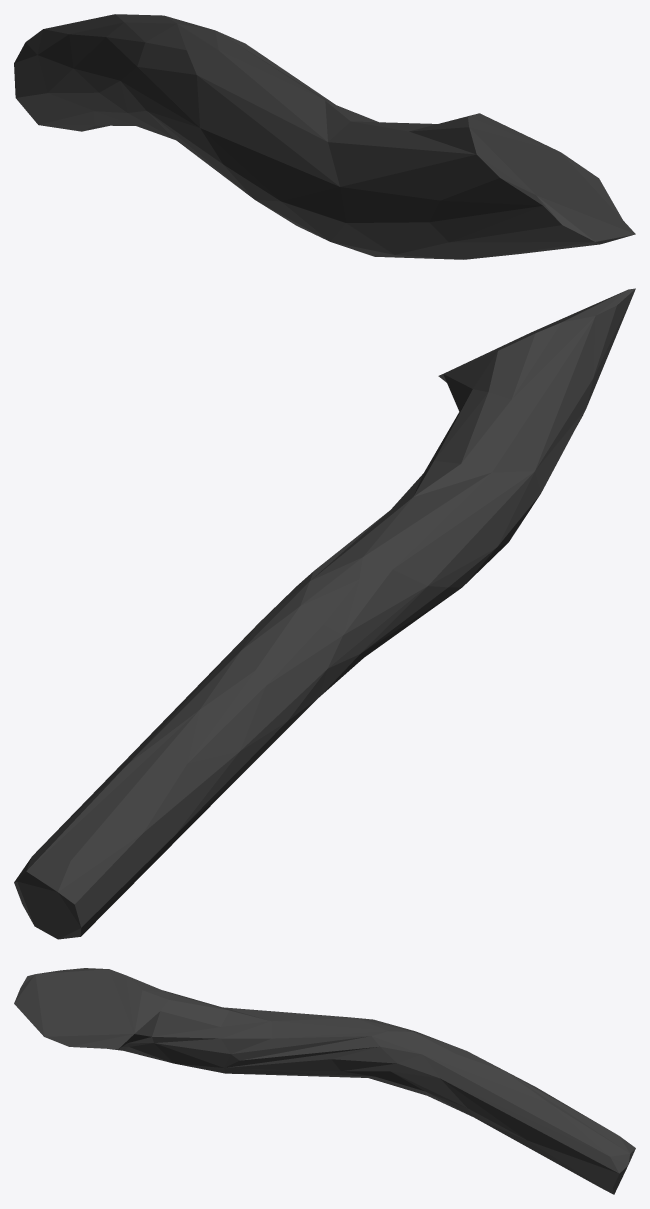
The model's file is Gonadal_vv_L.glb.
The picture shows the model from 3 angles, top to bottom: view 1: azimuth 30°, elevation 25°; view 2: azimuth 150°, elevation 25°; view 3: azimuth 270°, elevation 25°; orthographic projection. The views are drawn at different scales.
Parts seen in each view (by area): view 1: Gonadal_vv_L; view 2: Gonadal_vv_L; view 3: Gonadal_vv_L.
Part boxes in pixels (left/top/right/bottom): Gonadal_vv_L: left=14, top=14, right=635, bottom=259; Gonadal_vv_L: left=14, top=288, right=635, bottom=939; Gonadal_vv_L: left=14, top=968, right=635, bottom=1194.
Bounding box in the file's own units: 0.0345 × 0.0638 × 0.1814.
1 material, 1 textured.
